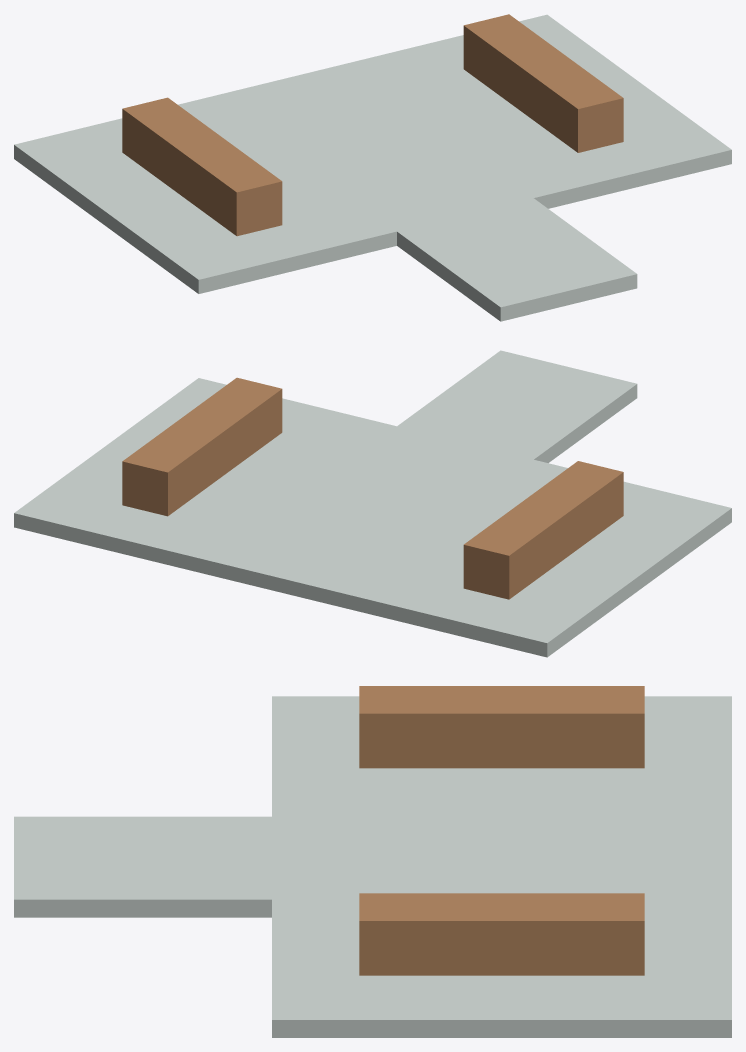
File: bus-cutaway.glb
The picture shows the model from 3 angles, top to bottom: view 1: azimuth 30°, elevation 25°; view 2: azimuth 150°, elevation 25°; view 3: azimuth 270°, elevation 25°; orthographic projection. The views are drawn at different scales.
Parts seen in each view (by area): view 1: bus/court-floor/cutaway.002, bus/portal-floor-0/cutaway.002, bus/bench-1/cutaway.002, bus/bench--1/cutaway.002; view 2: bus/court-floor/cutaway.002, bus/portal-floor-0/cutaway.002, bus/bench-1/cutaway.002, bus/bench--1/cutaway.002; view 3: bus/court-floor/cutaway.002, bus/portal-floor-0/cutaway.002, bus/bench-1/cutaway.002, bus/bench--1/cutaway.002.
Boxes of the visible parts, left/top/right/bottom form: bus/court-floor/cutaway.002: left=14, top=14, right=731, bottom=293; bus/portal-floor-0/cutaway.002: left=397, top=198, right=637, bottom=321; bus/bench-1/cutaway.002: left=463, top=14, right=623, bottom=152; bus/bench--1/cutaway.002: left=122, top=97, right=282, bottom=236; bus/court-floor/cutaway.002: left=14, top=378, right=731, bottom=657; bus/portal-floor-0/cutaway.002: left=397, top=350, right=637, bottom=463; bus/bench-1/cutaway.002: left=122, top=377, right=282, bottom=516; bus/bench--1/cutaway.002: left=463, top=461, right=623, bottom=599; bus/court-floor/cutaway.002: left=272, top=696, right=731, bottom=1037; bus/portal-floor-0/cutaway.002: left=14, top=816, right=271, bottom=917; bus/bench-1/cutaway.002: left=359, top=893, right=644, bottom=975; bus/bench--1/cutaway.002: left=359, top=686, right=644, bottom=768.
Bounding box in the file's own units: 5.85 × 0.61 × 5.48.
